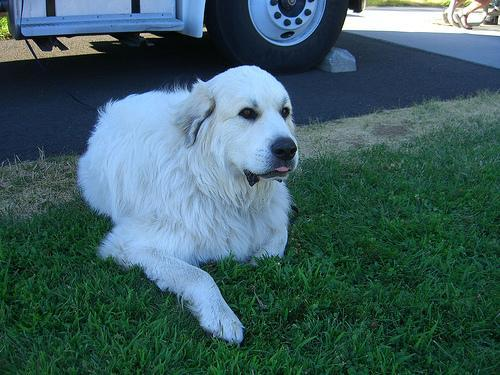Great_Pyrenees: (73, 59, 310, 348)
